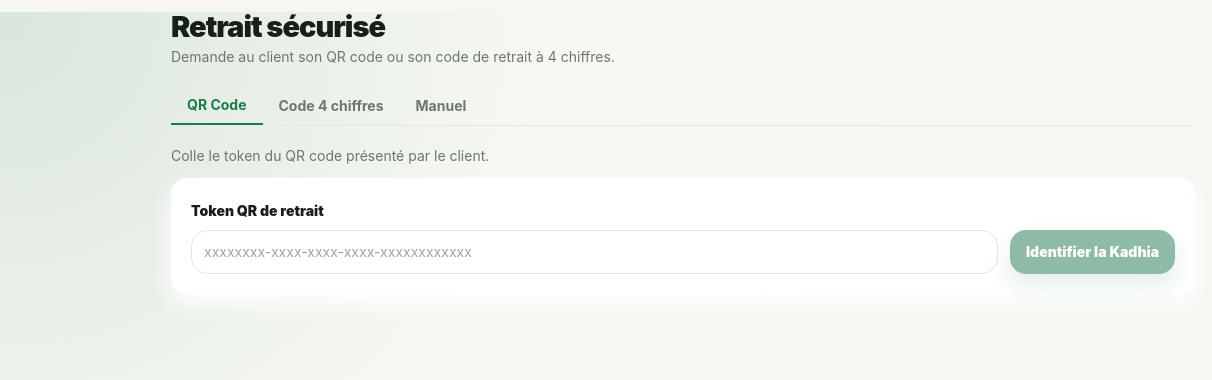
Test: MerchantPickupPage › explains an unknown pickup QR in fr (PICKUP_SESSION_NOT_FOUND)
This screenshot has width=1212, height=380.
Type "11111111-1111-4111-8111-111111111111" into the field labelled "Token QR de retrait" at (594, 252), box [191,230,998,274]
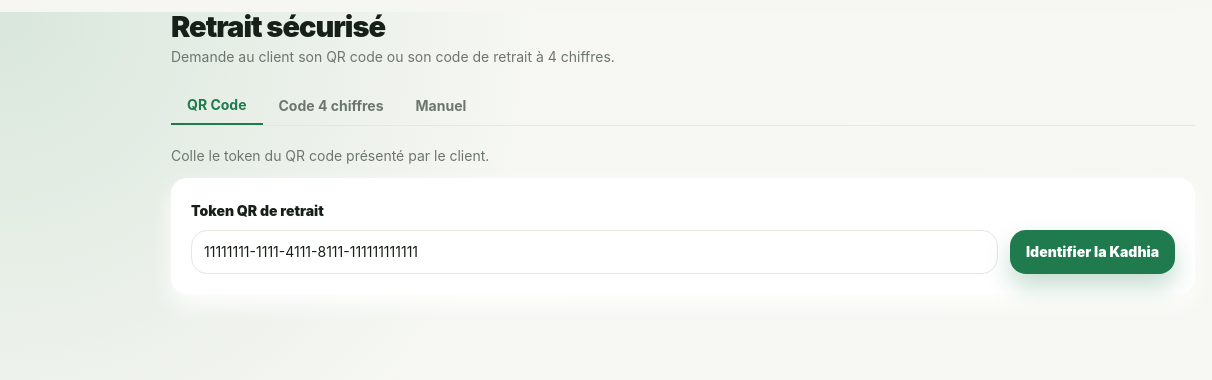
Click the button "Identifier la Kadhia" at (1092, 252), box [1010,230,1175,274]
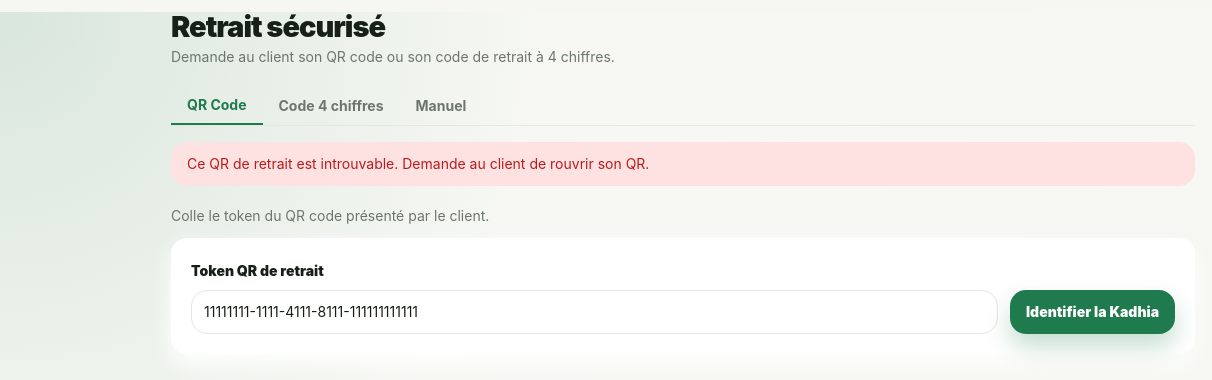
Expected: the message reads "Ce QR de retrait est introuvable. Demande au client de rouvrir son QR.", [187,155,649,172]
